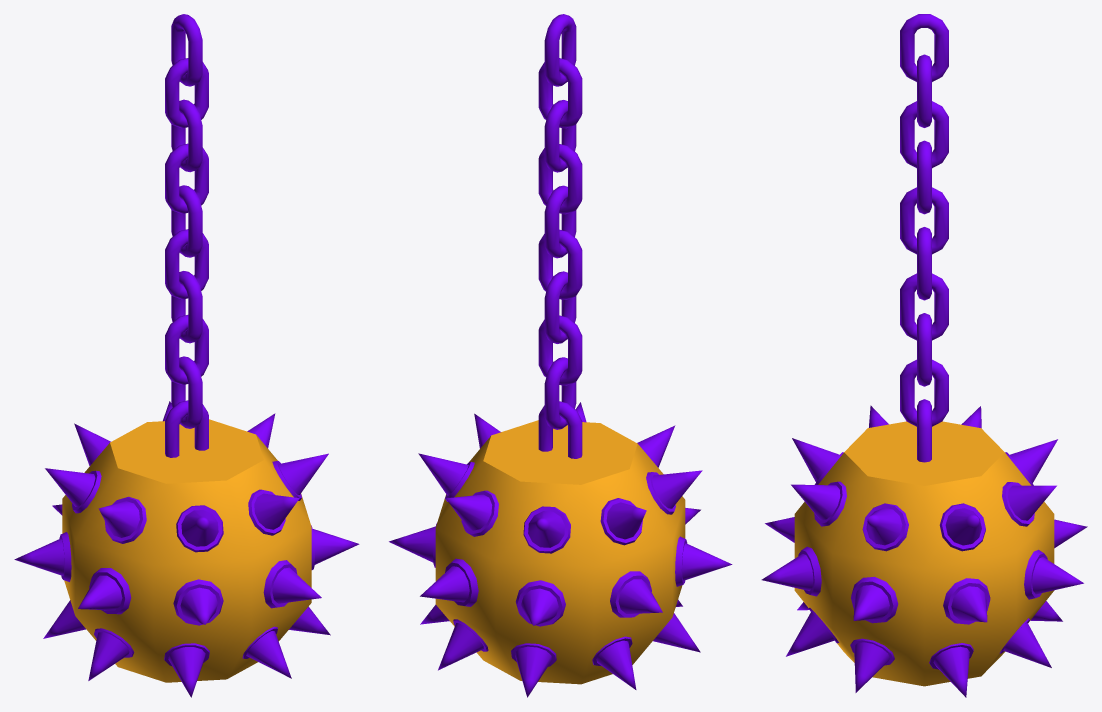
Rendered from SpikeyWreckingBall.glb.
The picture shows the model from 3 angles, left to right: view 1: azimuth 30°, elevation 25°; view 2: azimuth 150°, elevation 25°; view 3: azimuth 270°, elevation 25°; orthographic projection.
Parts seen in each view (by area): view 1: Obstacle_Hanging_Hammer_04; view 2: Obstacle_Hanging_Hammer_04; view 3: Obstacle_Hanging_Hammer_04.
Boxes of the visible parts, bbox=[...] form: Obstacle_Hanging_Hammer_04: bbox=[14, 14, 359, 697]; Obstacle_Hanging_Hammer_04: bbox=[389, 14, 732, 697]; Obstacle_Hanging_Hammer_04: bbox=[761, 14, 1087, 697].
Size of the model in its own units: 1.81 by 3.9 by 1.81.
1 material, 1 textured.
